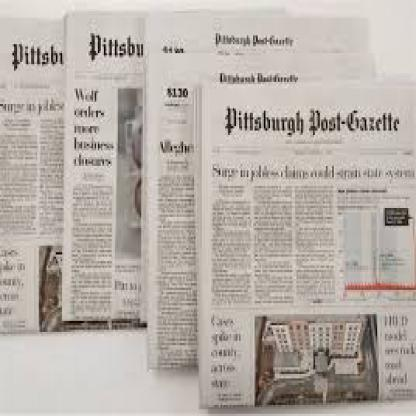paper: (138, 9, 374, 321), (144, 53, 372, 370), (194, 84, 414, 407), (0, 15, 154, 328), (59, 11, 154, 316)
